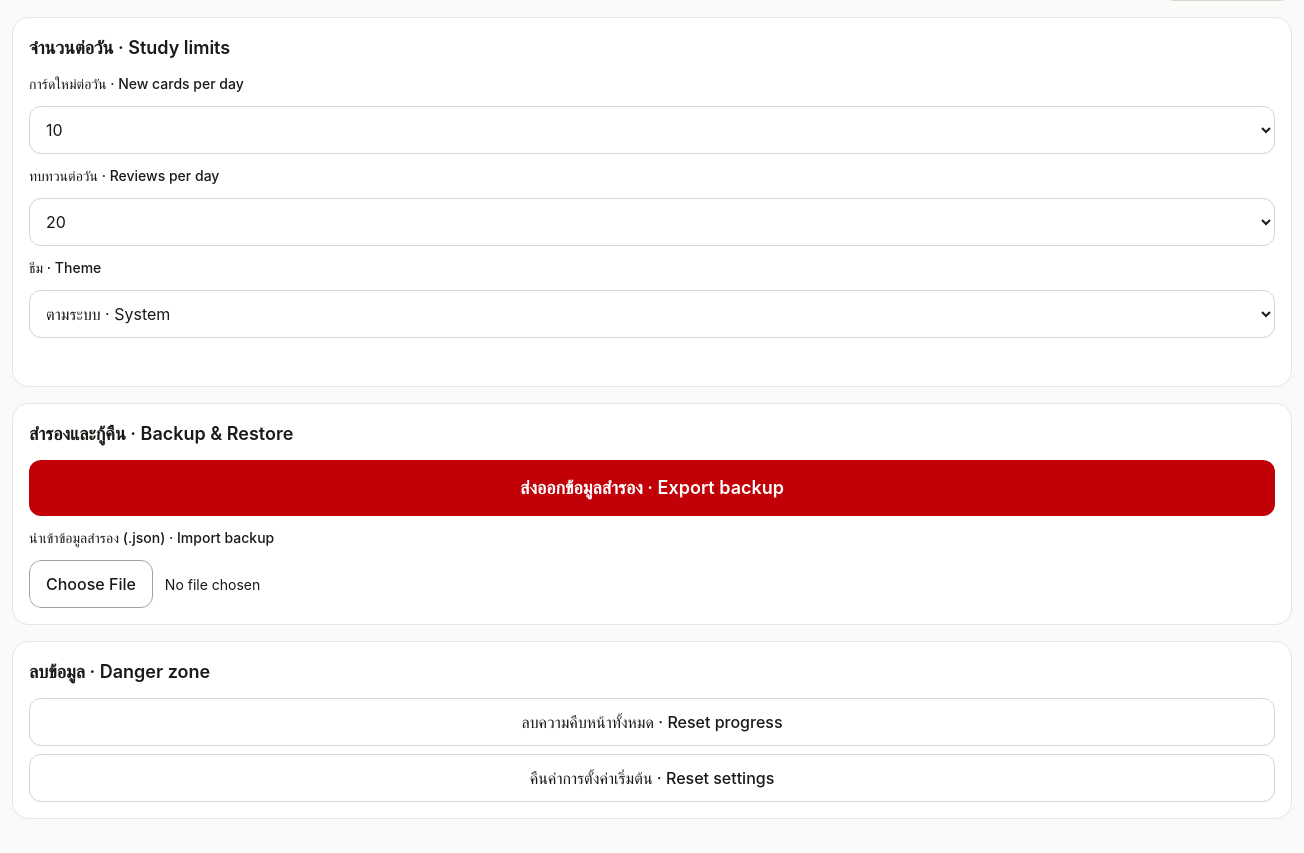
Test: export › downloads a dated JSON backup that validates as format version 1
The width and height of the screenshot is (1304, 853).
Click the button "ส่งออกข้อมูลสำรอง · Export backup" at (652, 488), box 29,460 -> 1275,516
(page scrolled)
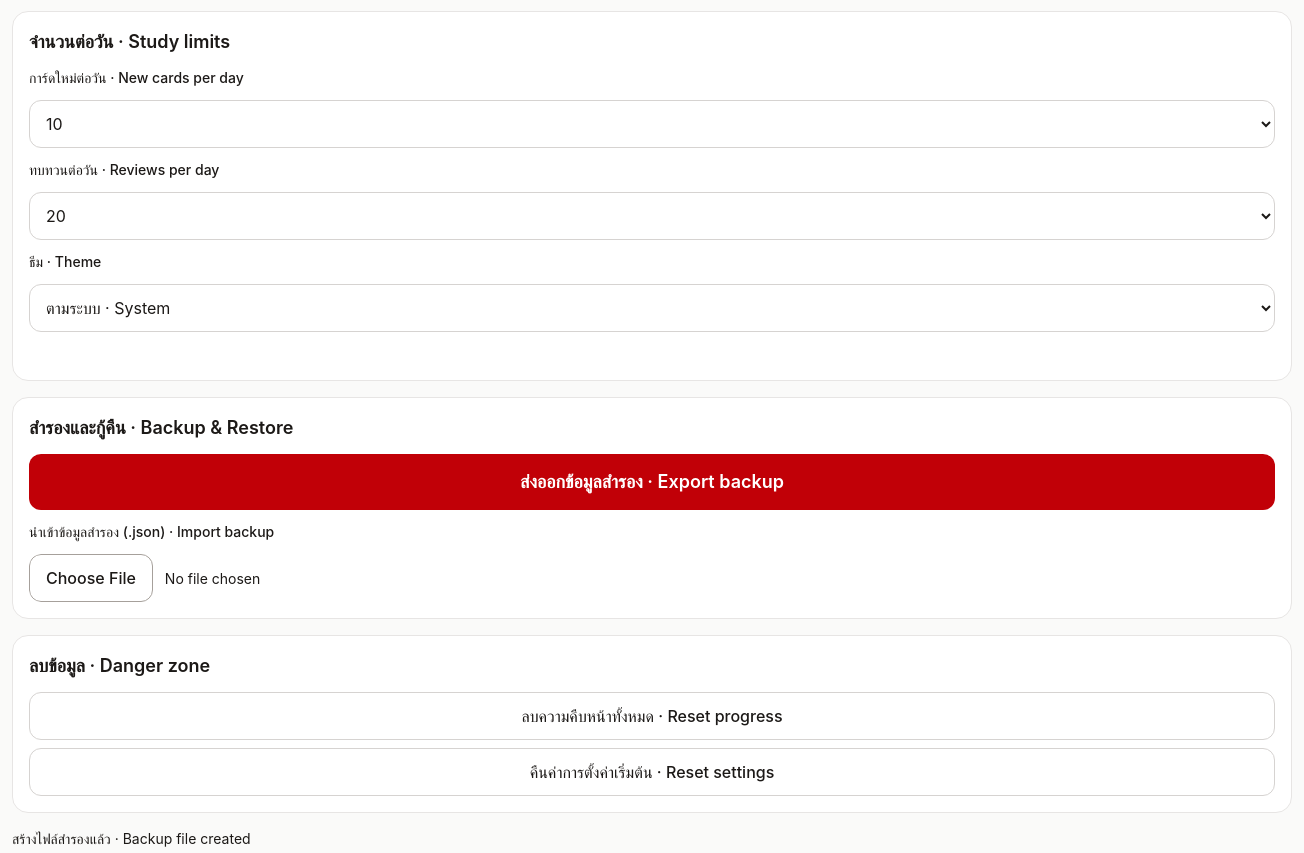
Expected: the text "สร้างไฟล์สำรองแล้ว · Backup file created" is shown, 12,830 -> 251,847
